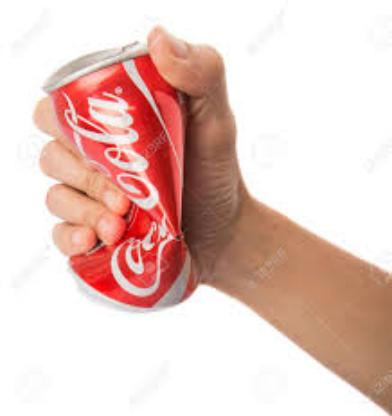Can: (42, 39, 198, 321)
